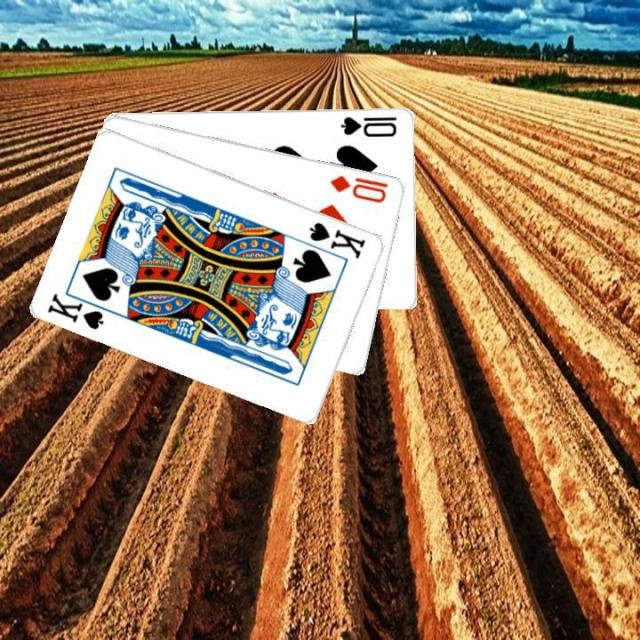10D: (326, 170, 390, 204)
10S: (337, 112, 399, 138)
KS: (45, 286, 116, 332), (305, 218, 368, 260)
